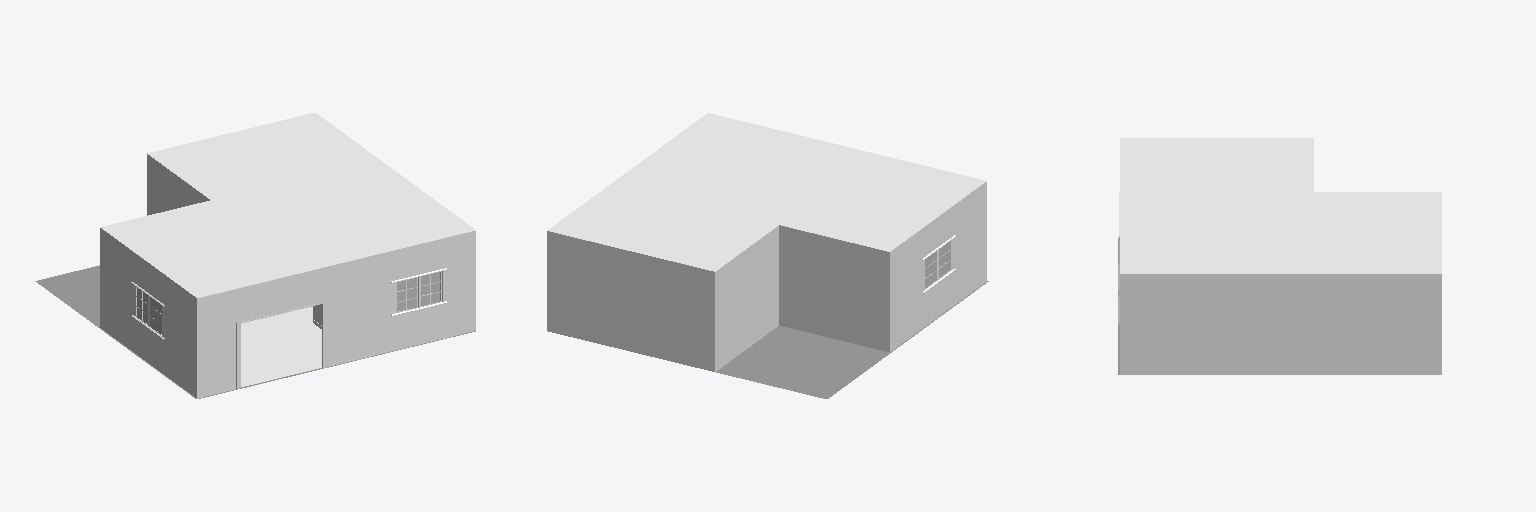
Rendered from store.obj.
3 views of the same model, side by side, from view 1: azimuth 30°, elevation 25°; view 2: azimuth 150°, elevation 25°; view 3: azimuth 270°, elevation 25° (orthographic).
Parts seen in each view (by area): view 1: room_13_78, wall_9_64, wall_10_71, wall_1_6, room_12_76, ground_1, wall_5_34, Montant_79, 92, 97; view 2: room_13_78, wall_4_27, wall_8_57, wall_1_6, ground_1, wall_5_34; view 3: room_13_78, wall_2_13, wall_3_20.
Part boxes in pixels (x1,y1,x2,y2): room_13_78: (100,113,475,301); wall_9_64: (197,262,362,398); wall_10_71: (363,234,475,357); wall_1_6: (100,231,196,397); room_12_76: (241,306,321,386); ground_1: (35,265,475,398); wall_5_34: (147,158,205,215); Montant_79: (236,301,328,388); 92: (391,268,446,316); 97: (397,278,416,311); room_13_78: (547,113,986,275); wall_4_27: (547,235,714,371); wall_8_57: (779,229,889,351); wall_1_6: (890,185,986,351); ground_1: (716,281,988,398); wall_5_34: (715,229,778,371); room_13_78: (1120,138,1441,277); wall_2_13: (1120,278,1313,374); wall_3_20: (1313,278,1441,374).
Size of the model in its own units: 926 by 317 by 926.